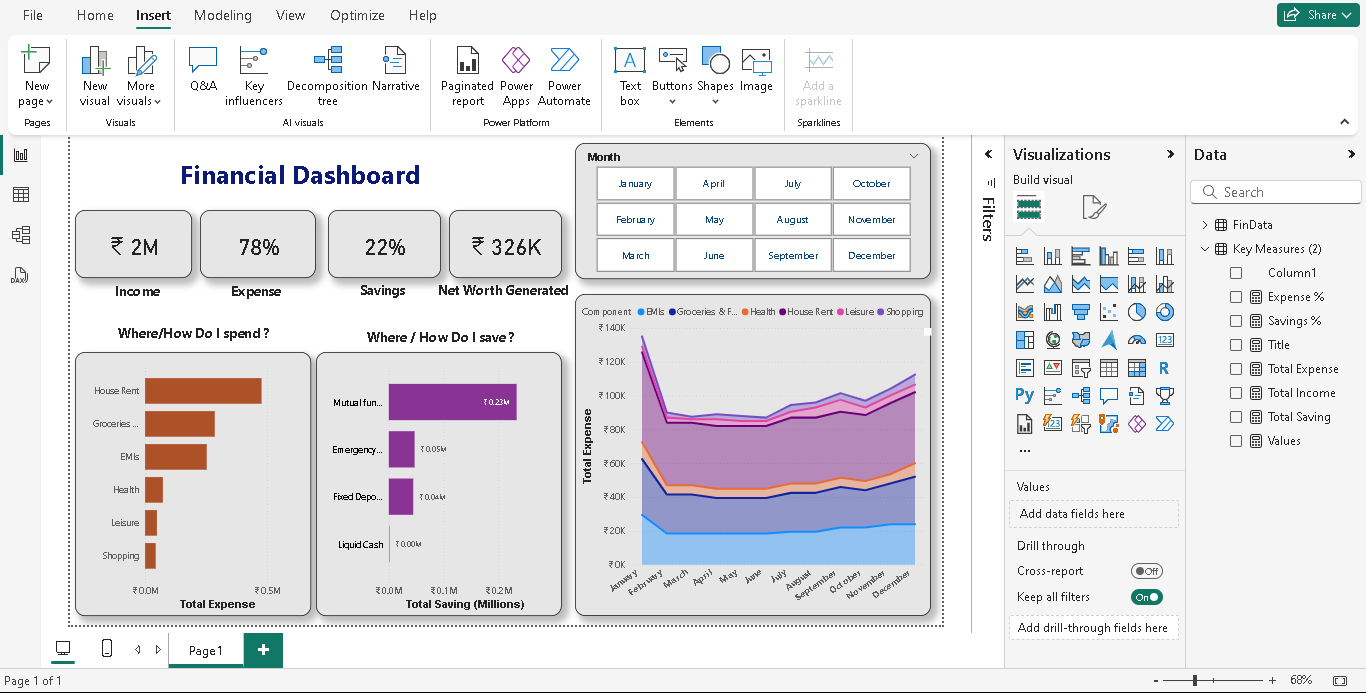

The page's visual inventory and layout, read from the dashboard file:
{"tool":"powerbi","page":{"name":"Page 1","canvas":[1280,720],"ordinal":0},"visuals":[{"type":"card","fields":{"Values":["Key Measures (2).Total Income"]},"box":[7.3,110.2,171.9,99.9],"z":0},{"type":"card","fields":{"Values":["Key Measures (2).Expense %"]},"box":[191,110.2,170.4,99.9],"z":1000},{"type":"card","fields":{"Values":["Key Measures (2).Savings %"]},"box":[379.1,110.2,166,99.9],"z":2000},{"type":"card","fields":{"Values":["Key Measures (2).Total Saving"]},"box":[556.9,110.2,166,99.9],"z":3000},{"type":"textbox","box":[0,211.6,198.4,61.7],"z":4000},{"type":"textbox","box":[198.4,211.6,155.8,61.7],"z":5000},{"type":"textbox","box":[379.1,210.1,166,63.2],"z":6000},{"type":"textbox","box":[531.9,210.1,210.1,61.7],"z":7000},{"type":"slicer","fields":{"Values":["FinData.Date.Variation.Date Hierarchy.Month"]},"box":[742,11.8,523.1,199.8],"z":8000},{"type":"clusteredBarChart","fields":{"Category":["FinData.Component"],"Y":["Key Measures (2).Total Expense"]},"box":[7.3,318.9,346.8,387.9],"z":11000},{"type":"clusteredBarChart","fields":{"Category":["FinData.Component"],"Y":["Key Measures (2).Total Saving"]},"box":[361.5,318.9,361.5,387.9],"z":12000},{"type":"stackedAreaChart","fields":{"Category":["FinData.Date.Variation.Date Hierarchy.Month"],"Y":["Key Measures (2).Total Expense"],"Series":["FinData.Component"]},"box":[742,233.6,523.1,473.1],"z":13000},{"type":"textbox","box":[45.6,273.3,273.3,45.6],"z":14000},{"type":"textbox","box":[1255.6,284,11,11],"z":15000},{"type":"textbox","box":[421.7,279.2,246.9,67.6],"z":16000},{"type":"textbox","box":[157.2,26.4,552.5,61.7],"z":16001}]}

Visuals, with their boxes on the page's 1280x720 design canvas (x1, y1, x2, y2). These are canvas units, not pixel positions in the 1366x693 screenshot, which may show the page scaled, cropped or inside an application window:
card - Key Measures (2).Total Income: rect(7, 110, 179, 210)
card - Key Measures (2).Expense %: rect(191, 110, 361, 210)
card - Key Measures (2).Savings %: rect(379, 110, 545, 210)
card - Key Measures (2).Total Saving: rect(557, 110, 723, 210)
textbox: rect(0, 212, 198, 273)
textbox: rect(198, 212, 354, 273)
textbox: rect(379, 210, 545, 273)
textbox: rect(532, 210, 742, 272)
slicer - FinData.Date.Variation.Date Hierarchy.Month: rect(742, 12, 1265, 212)
clusteredBarChart - FinData.Component x Key Measures (2).Total Expense: rect(7, 319, 354, 707)
clusteredBarChart - FinData.Component x Key Measures (2).Total Saving: rect(362, 319, 723, 707)
stackedAreaChart - FinData.Date.Variation.Date Hierarchy.Month x Key Measures (2).Total Expense: rect(742, 234, 1265, 707)
textbox: rect(46, 273, 319, 319)
textbox: rect(1256, 284, 1267, 295)
textbox: rect(422, 279, 669, 347)
textbox: rect(157, 26, 710, 88)
